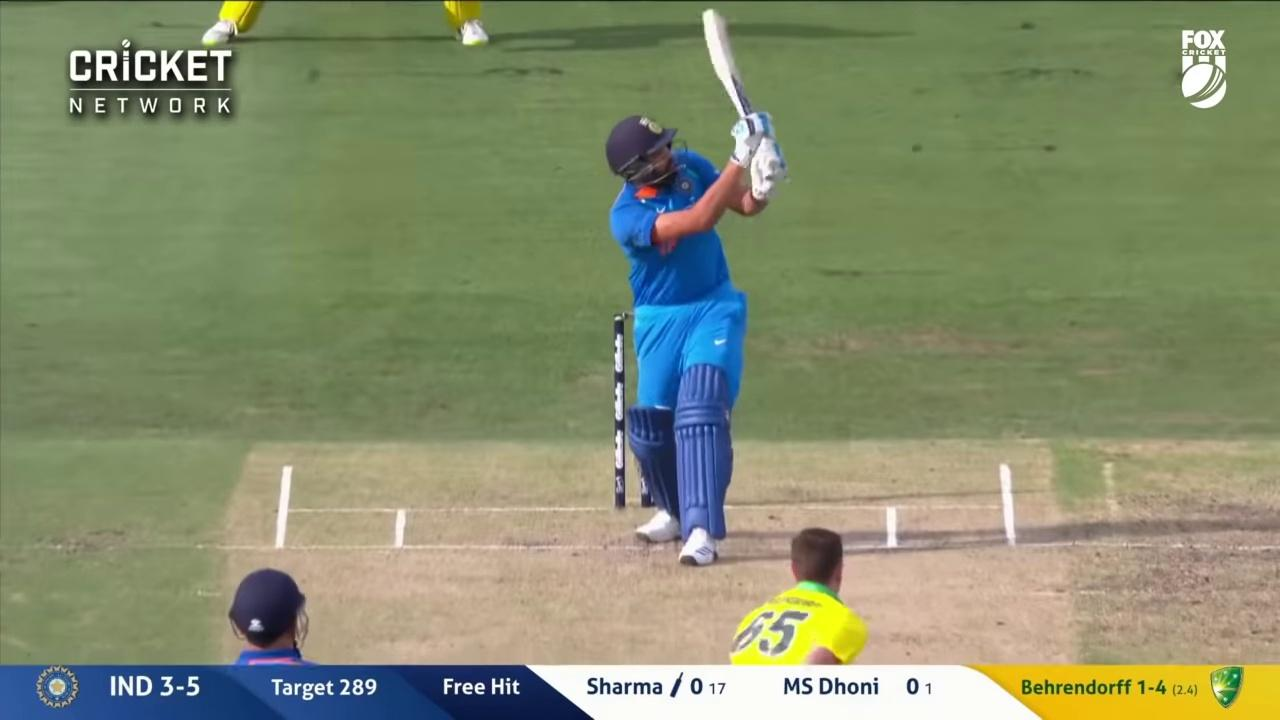batsman: (600, 3, 793, 570)
